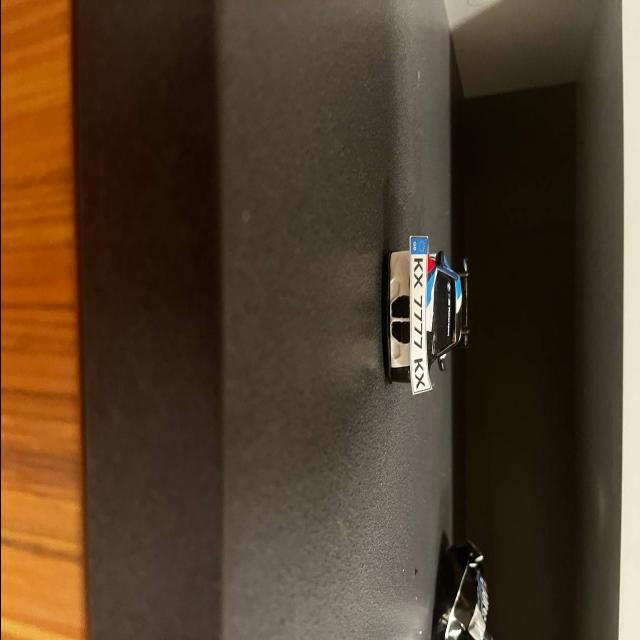cars: (375, 232, 483, 406)
